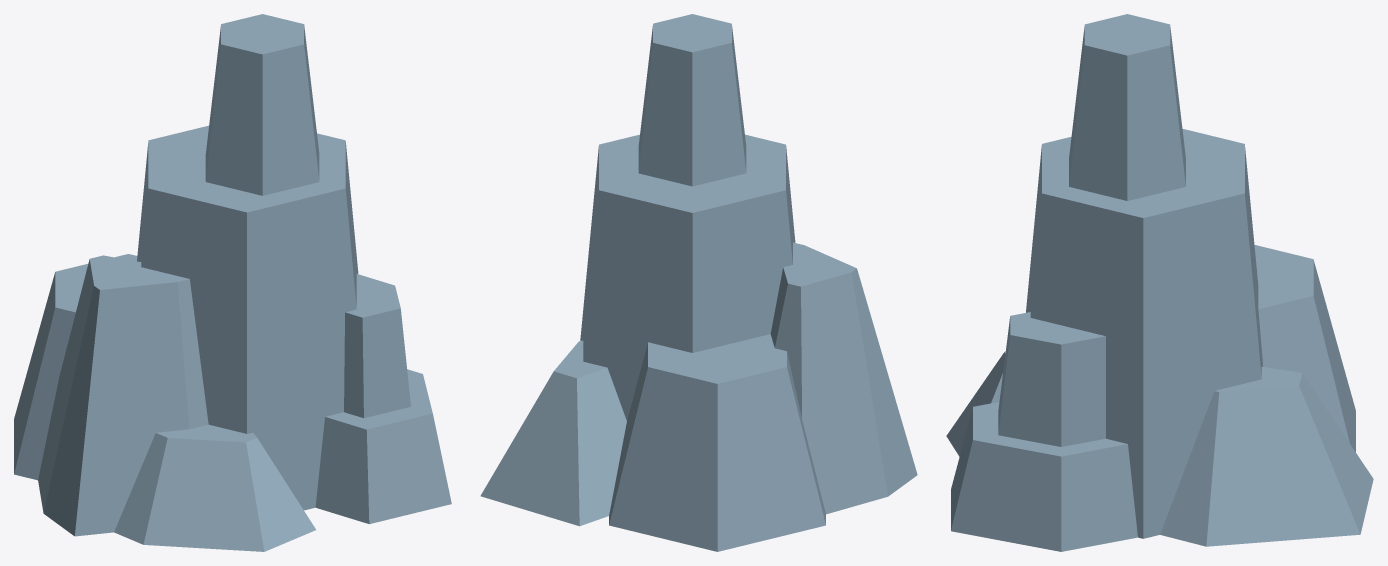
Rendered from formation_stone.glb.
3 renders of one model, left to right at view 1: azimuth 30°, elevation 25°; view 2: azimuth 150°, elevation 25°; view 3: azimuth 270°, elevation 25°, orthographic. The views are drawn at different scales.
Parts seen in each view (by area): view 1: formation_stone; view 2: formation_stone; view 3: formation_stone.
Part boxes in pixels (box(x1,y1,x2,y2)): formation_stone: box(14, 14, 451, 551); formation_stone: box(480, 14, 917, 551); formation_stone: box(946, 14, 1373, 551).
Bounding box in the file's own units: 10.6 × 12.25 × 10.67.
